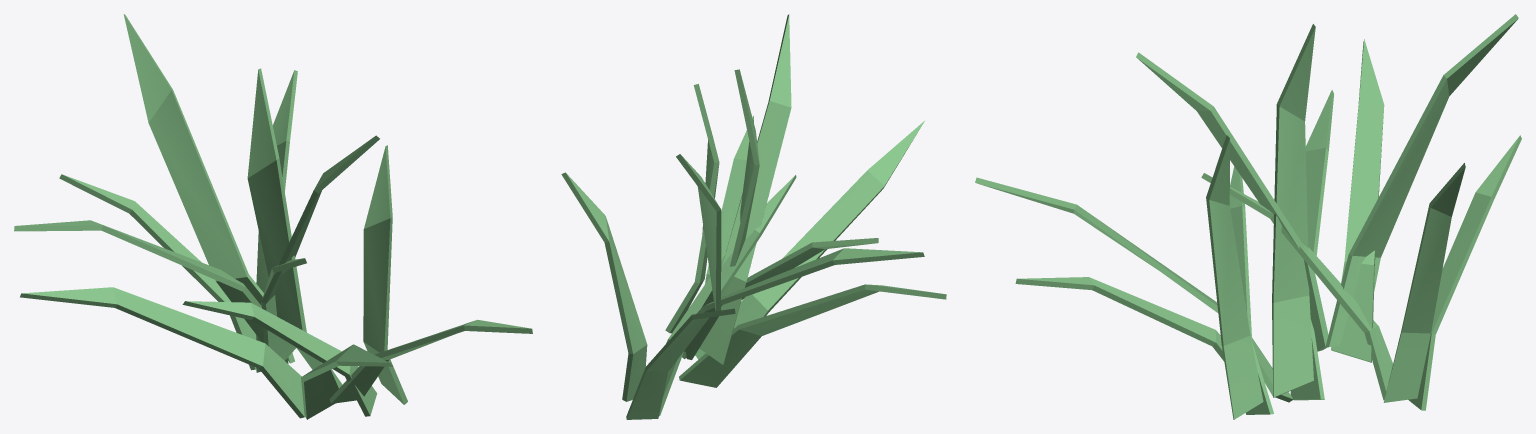
Rendered from grass2.fbx.
The picture shows the model from 3 angles, left to right: view 1: azimuth 30°, elevation 25°; view 2: azimuth 150°, elevation 25°; view 3: azimuth 270°, elevation 25°; orthographic projection. The views are drawn at different scales.
Parts seen in each view (by area): view 1: polySurface31; view 2: polySurface31; view 3: polySurface31.
Part boxes in pixels (x1,y1,x2,y2): polySurface31: (14, 14, 532, 419); polySurface31: (561, 14, 946, 419); polySurface31: (975, 14, 1521, 419).
Bounding box in the file's own units: 29.51 × 27.65 × 38.03.
